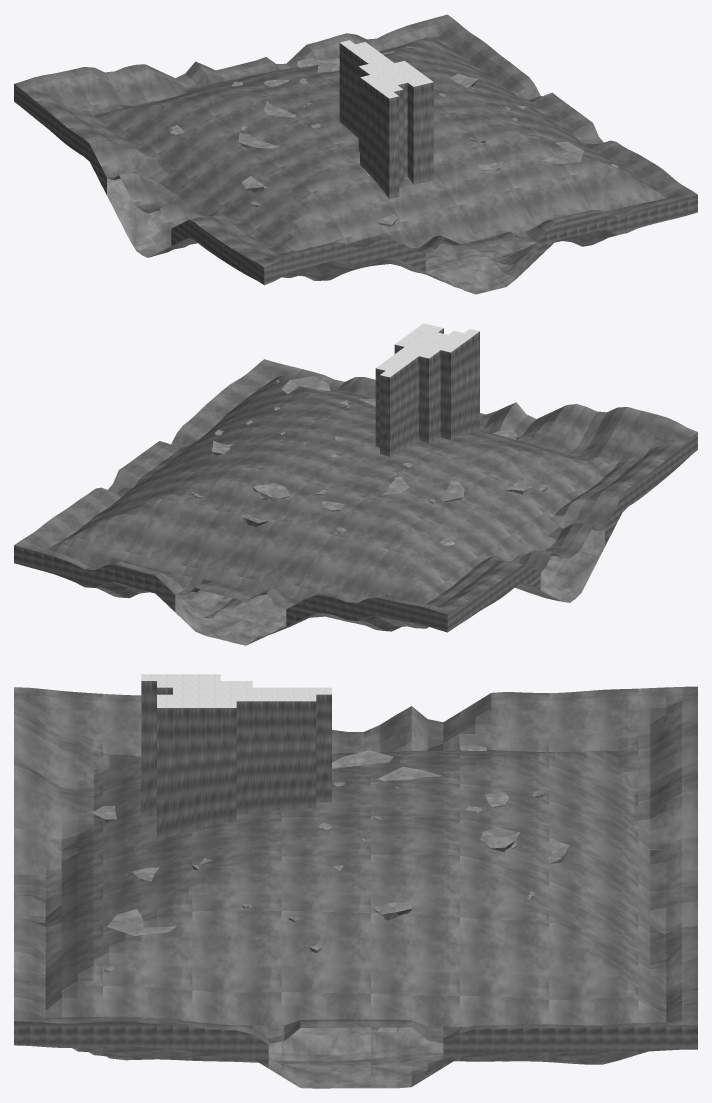
3 views of the same model, one above another, from view 1: azimuth 30°, elevation 25°; view 2: azimuth 150°, elevation 25°; view 3: azimuth 270°, elevation 25° (orthographic). The views are drawn at different scales.
Parts seen in each view (by area): view 1: CavernVault, CavernWalls, CavernShaft, CavernFloor, CavernSkyCap, CavernStalactites, CavernColumns; view 2: CavernVault, CavernWalls, CavernShaft, CavernFloor, CavernSkyCap, CavernStalactites, CavernColumns; view 3: CavernVault, CavernShaft, CavernFloor, CavernWalls, CavernSkyCap, CavernStalactites, CavernColumns.
Boxes of the visible parts, <box> form: CavernVault: <box>14,14,697,267</box>; CavernWalls: <box>14,84,697,285</box>; CavernShaft: <box>339,43,433,198</box>; CavernFloor: <box>107,178,617,294</box>; CavernSkyCap: <box>340,40,433,98</box>; CavernStalactites: <box>168,51,618,226</box>; CavernColumns: <box>241,58,486,192</box>; CavernVault: <box>14,359,697,614</box>; CavernWalls: <box>14,432,697,632</box>; CavernShaft: <box>375,328,479,456</box>; CavernFloor: <box>95,529,604,645</box>; CavernSkyCap: <box>376,323,479,377</box>; CavernStalactites: <box>191,376,547,546</box>; CavernColumns: <box>211,400,532,526</box>; CavernVault: <box>14,686,697,1044</box>; CavernShaft: <box>141,681,331,841</box>; CavernFloor: <box>72,1027,648,1088</box>; CavernWalls: <box>14,1021,697,1068</box>; CavernSkyCap: <box>141,674,331,707</box>; CavernStalactites: <box>92,745,545,972</box>; CavernColumns: <box>191,828,568,1032</box>.
Size of the model in its own units: 92 by 38.53 by 92.
Materials: 6 (6 with a texture image).
